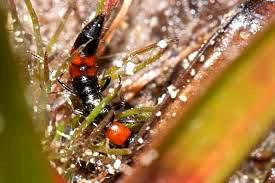Helopeltis-insect: (57, 5, 136, 147)
